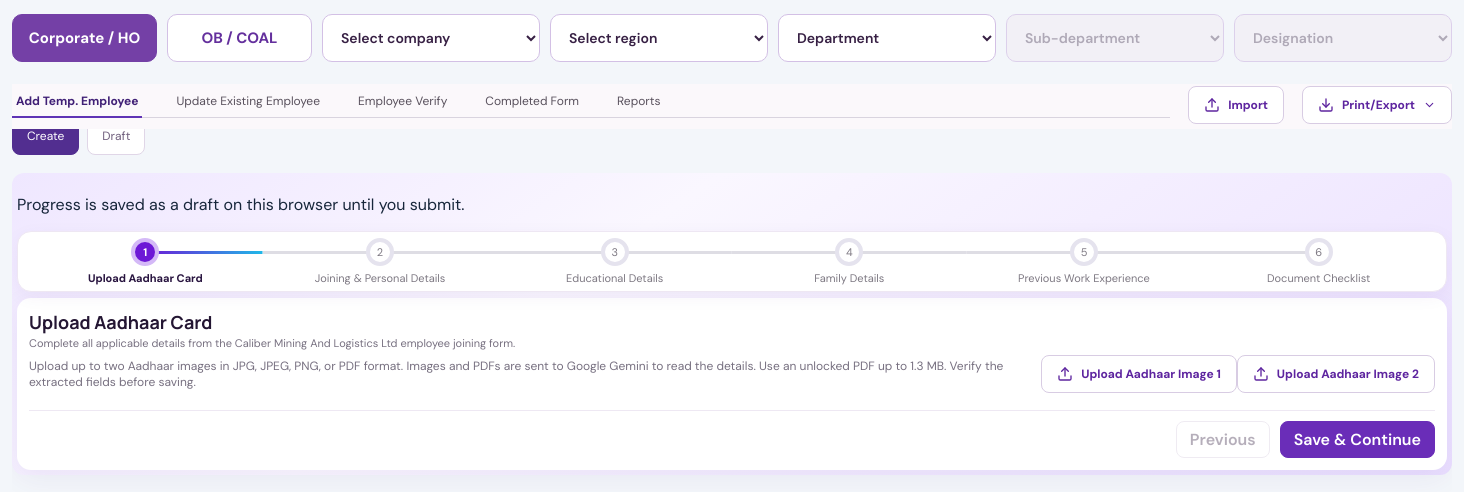
Test case: Employee Master tabs › explains how to recover when the browser blocks print or PDF export
Click the button "Update Existing Employee": (248,104) x1=172 y1=92 x2=324 y2=116
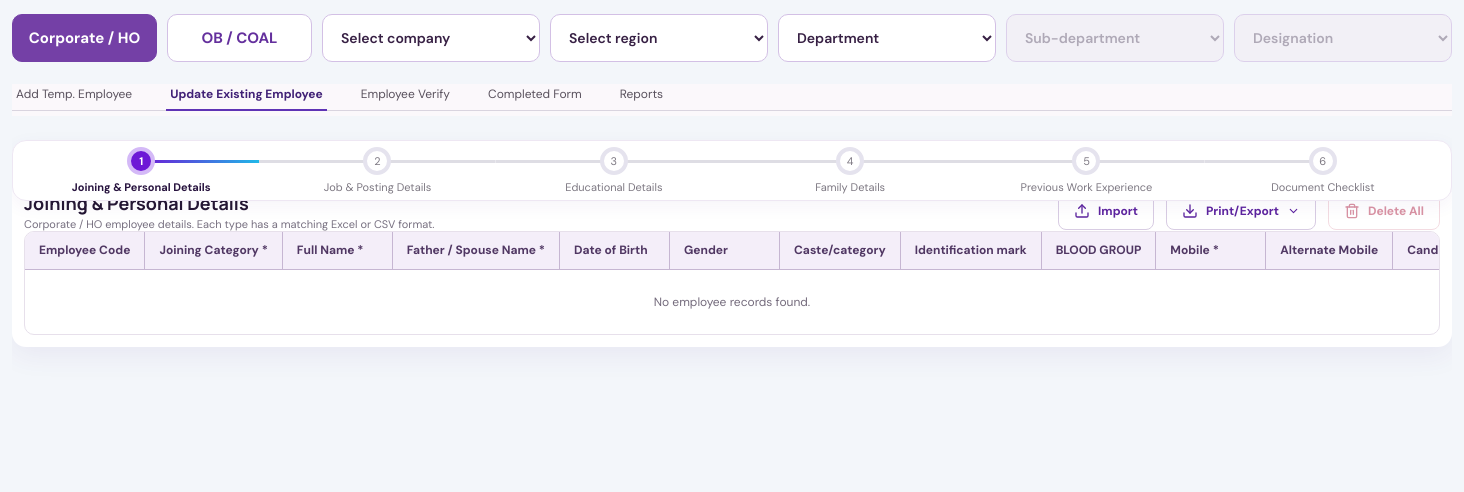
Click the button "Print/Export": (1241,211) x1=1166 y1=192 x2=1316 y2=230
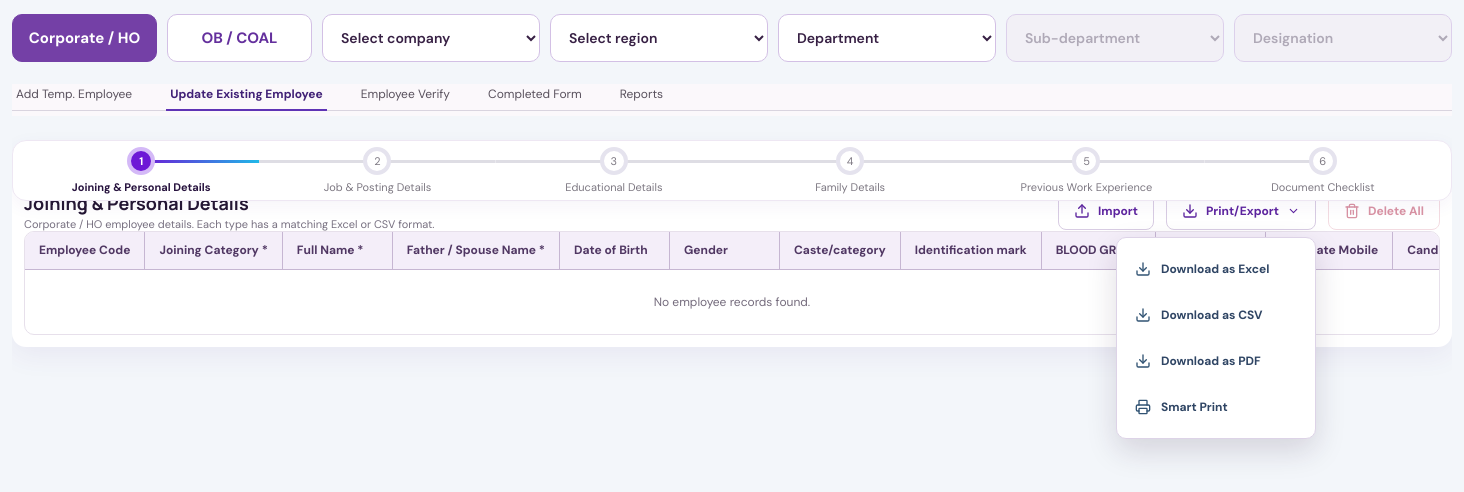
Click the menu item "Smart Print": (1216,407) x1=1125 y1=384 x2=1307 y2=430
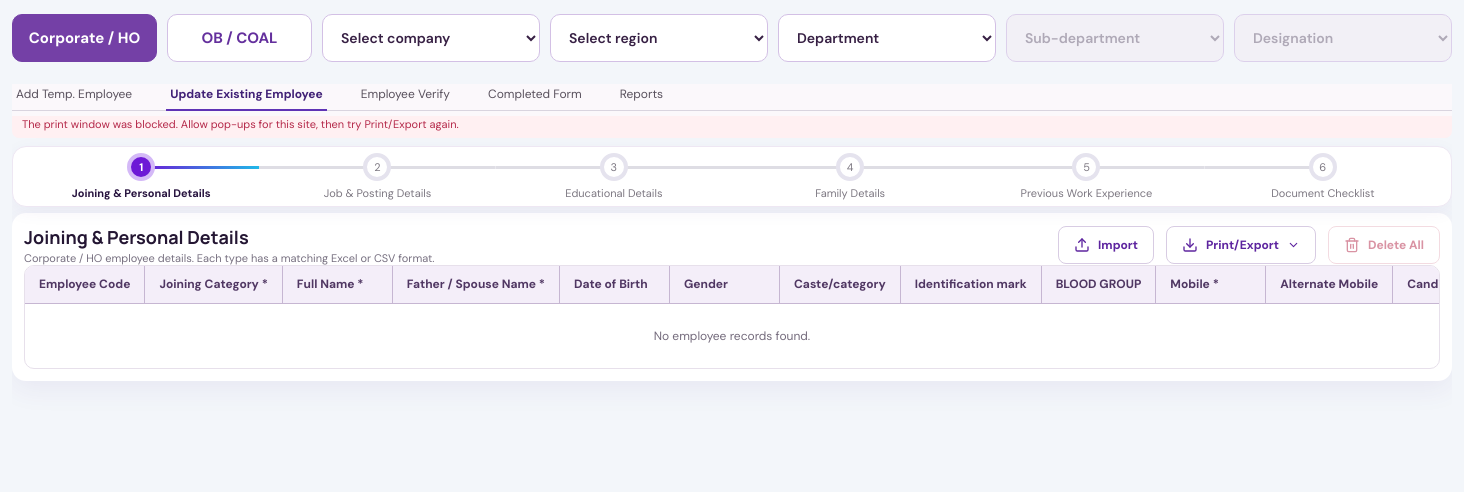
Result: the text "The print window was blocked" is shown at x1=22 y1=117 x2=459 y2=131
